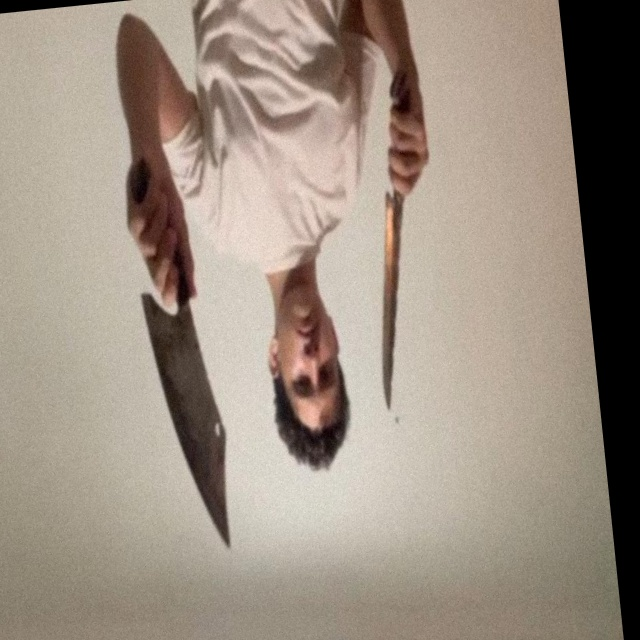Sharp-Object: (141, 289, 239, 556), (364, 194, 424, 411)
